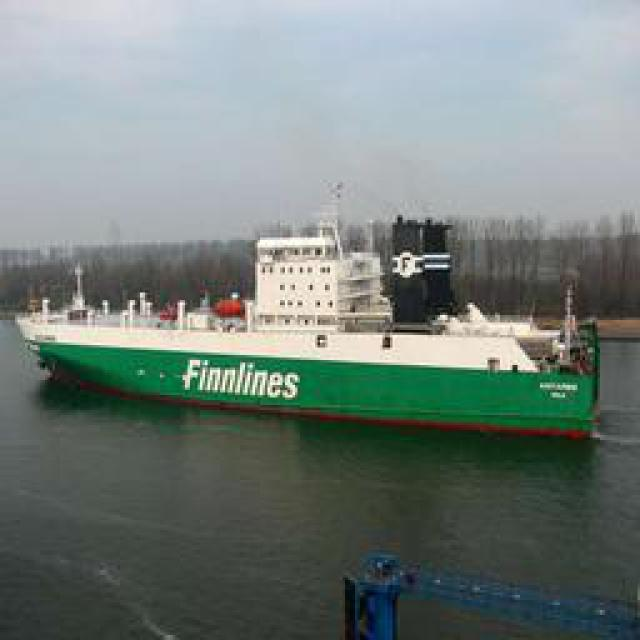Ship: (10, 214, 603, 434)
